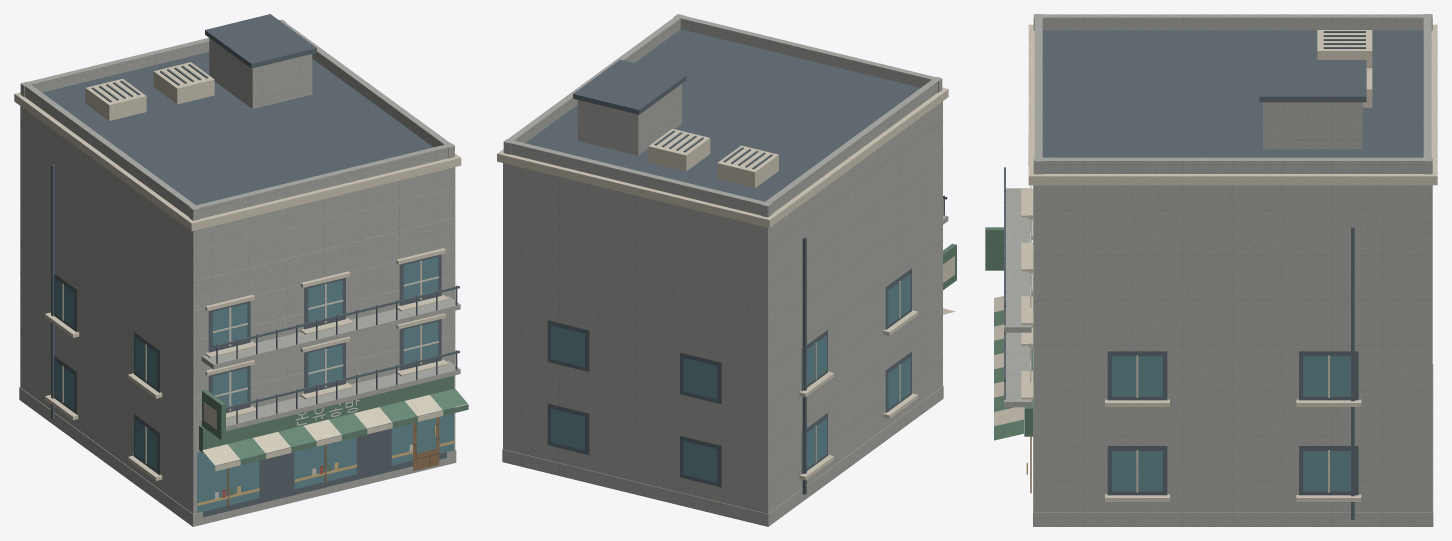
Rendered from q01-workshop.glb.
The picture shows the model from 3 angles, left to right: view 1: azimuth 30°, elevation 25°; view 2: azimuth 150°, elevation 25°; view 3: azimuth 270°, elevation 25°; orthographic projection. The views are drawn at different scales.
Bounding box in the file's own units: 7.34 × 9.01 × 9.07.
9 materials, 8 textured.
